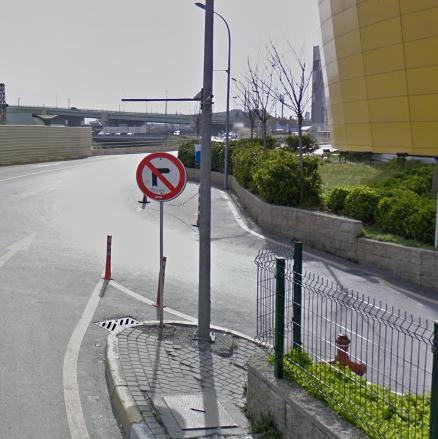rightturnsareforbidden: (136, 153, 185, 200)
